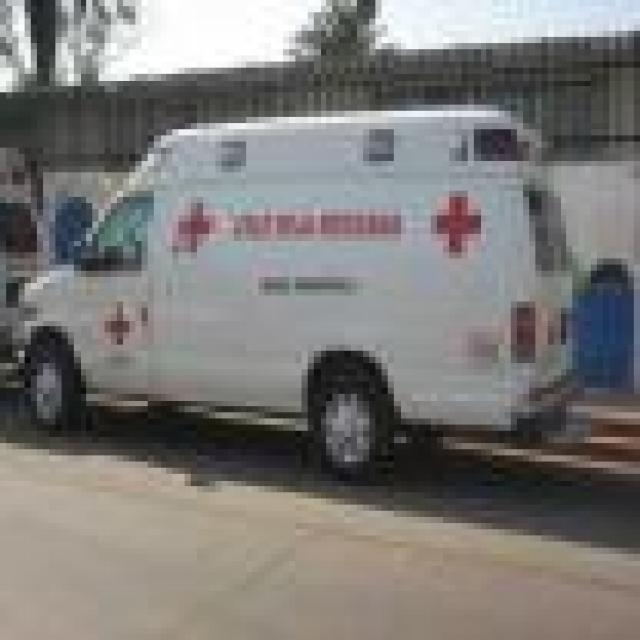emergency-vehicle: (12, 96, 603, 490)
